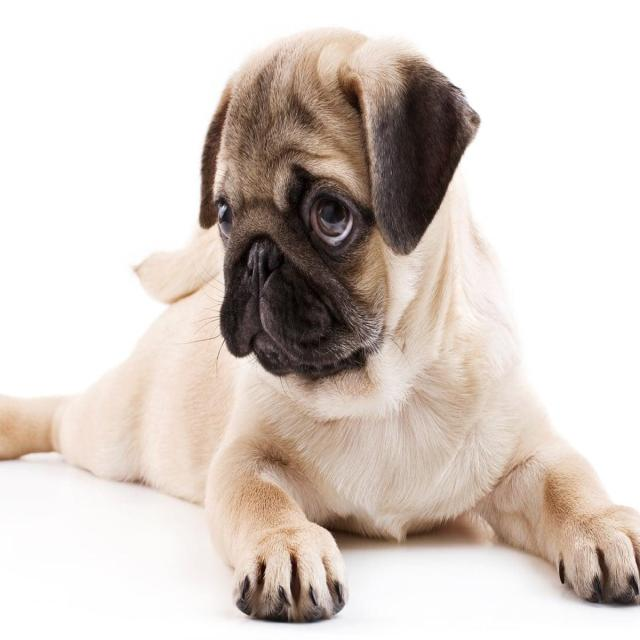Dog: (120, 14, 558, 428)
